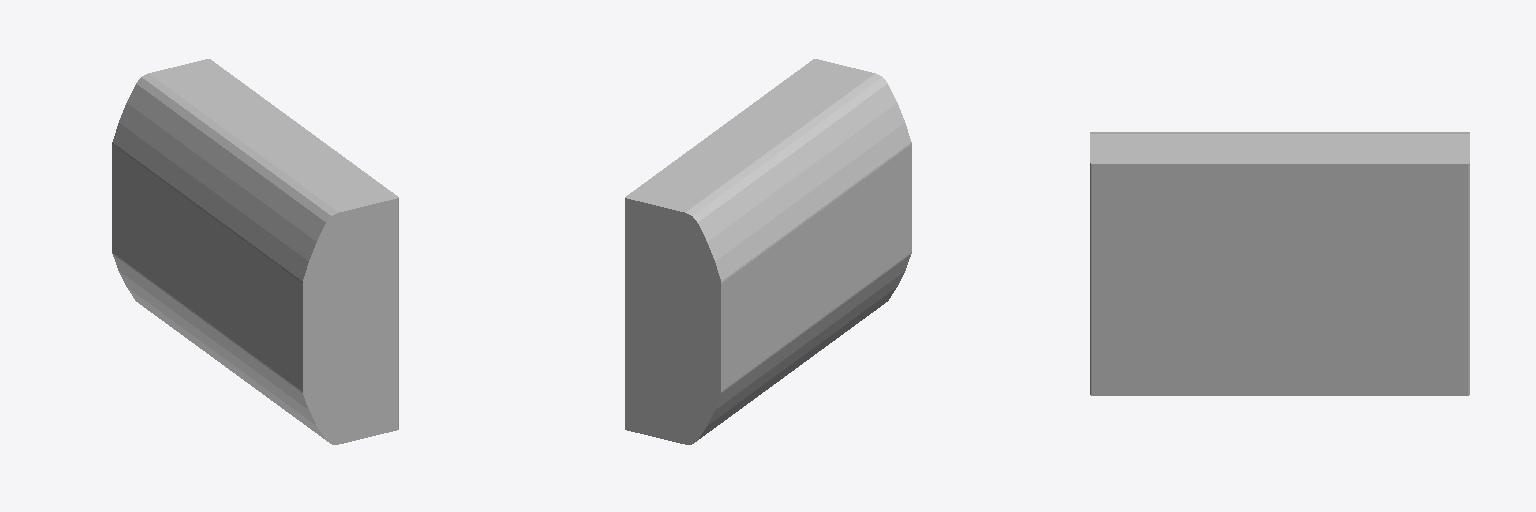
Rendered from torso_fixed_link.obj.
The picture shows the model from 3 angles: view 1: azimuth 30°, elevation 25°; view 2: azimuth 150°, elevation 25°; view 3: azimuth 270°, elevation 25°; orthographic projection.
Parts seen in each view (by area): view 1: torso_fixed_link_torso fixed link.002_Material_001.033; view 2: torso_fixed_link_torso fixed link.002_Material_001.033; view 3: torso_fixed_link_torso fixed link.002_Material_001.033.
Boxes of the visible parts, x1=… form: torso_fixed_link_torso fixed link.002_Material_001.033: x1=112, y1=59, x2=398, y2=444; torso_fixed_link_torso fixed link.002_Material_001.033: x1=625, y1=59, x2=911, y2=444; torso_fixed_link_torso fixed link.002_Material_001.033: x1=1090, y1=132, x2=1469, y2=395.
Size of the model in its own units: 0.1362 by 0.3107 by 0.4619.